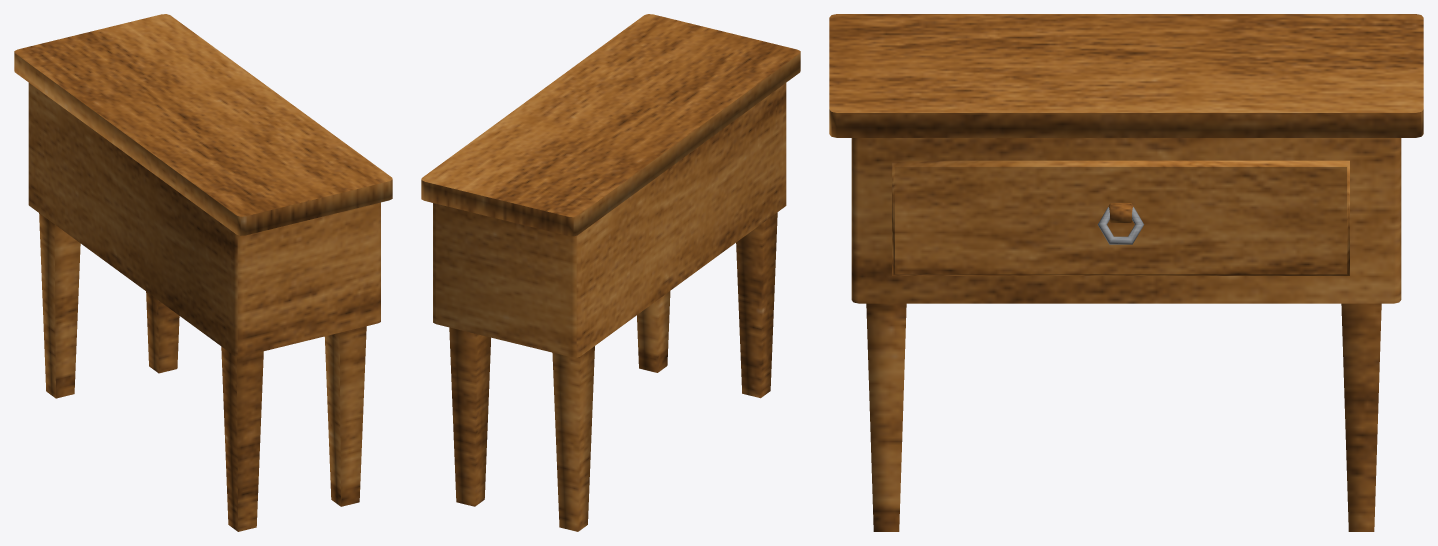
The model's file is cabinet5.fbx.
3 renders of one model, left to right at view 1: azimuth 30°, elevation 25°; view 2: azimuth 150°, elevation 25°; view 3: azimuth 270°, elevation 25°, orthographic. The views are drawn at different scales.
Parts seen in each view (by area): view 1: SM_tablet_side; view 2: SM_tablet_side; view 3: SM_tablet_side.
Part boxes in pixels (bbox=[...]): SM_tablet_side: bbox=[14, 14, 392, 531]; SM_tablet_side: bbox=[421, 14, 800, 531]; SM_tablet_side: bbox=[829, 14, 1423, 531].
Size of the model in its own units: 0.3082 by 0.5626 by 0.7034.
Materials: 2 (2 with a texture image).
